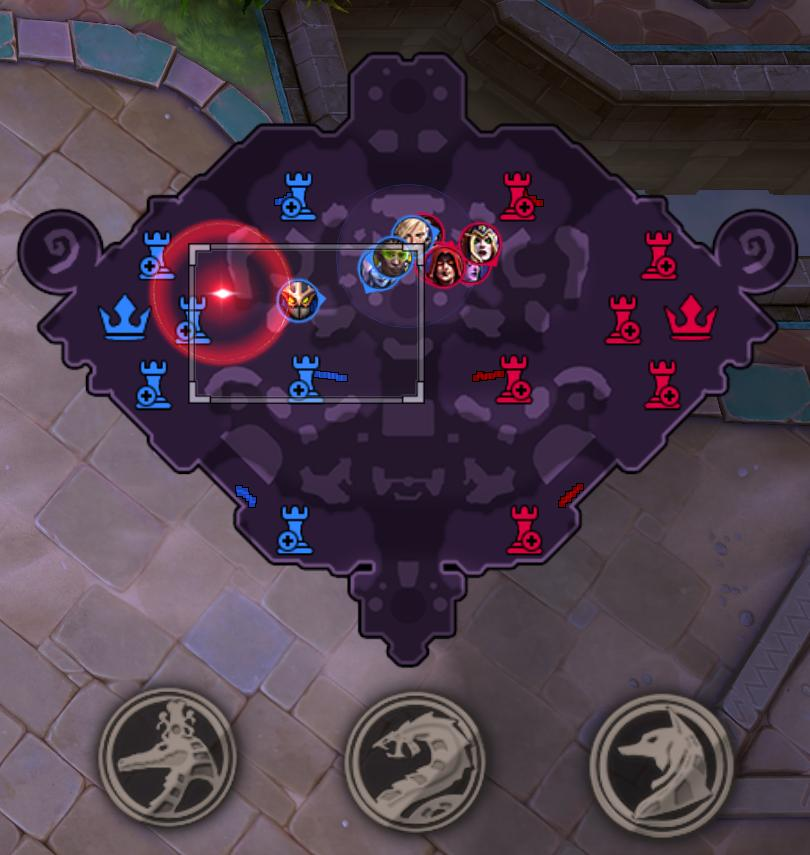blue nexus: (97, 292, 152, 341)
blue player: (391, 212, 442, 259), (276, 278, 322, 322), (370, 237, 415, 279), (358, 252, 398, 291)
blue tower: (278, 170, 318, 222), (134, 358, 173, 410), (275, 502, 314, 554), (174, 293, 212, 344), (139, 229, 176, 279), (287, 353, 323, 400)
red nexus: (663, 292, 718, 341)
red player: (421, 241, 465, 289), (459, 222, 501, 267)
red tower: (498, 170, 540, 222), (603, 293, 642, 345), (642, 358, 681, 410), (494, 353, 533, 405), (505, 502, 543, 555), (639, 228, 677, 280)
